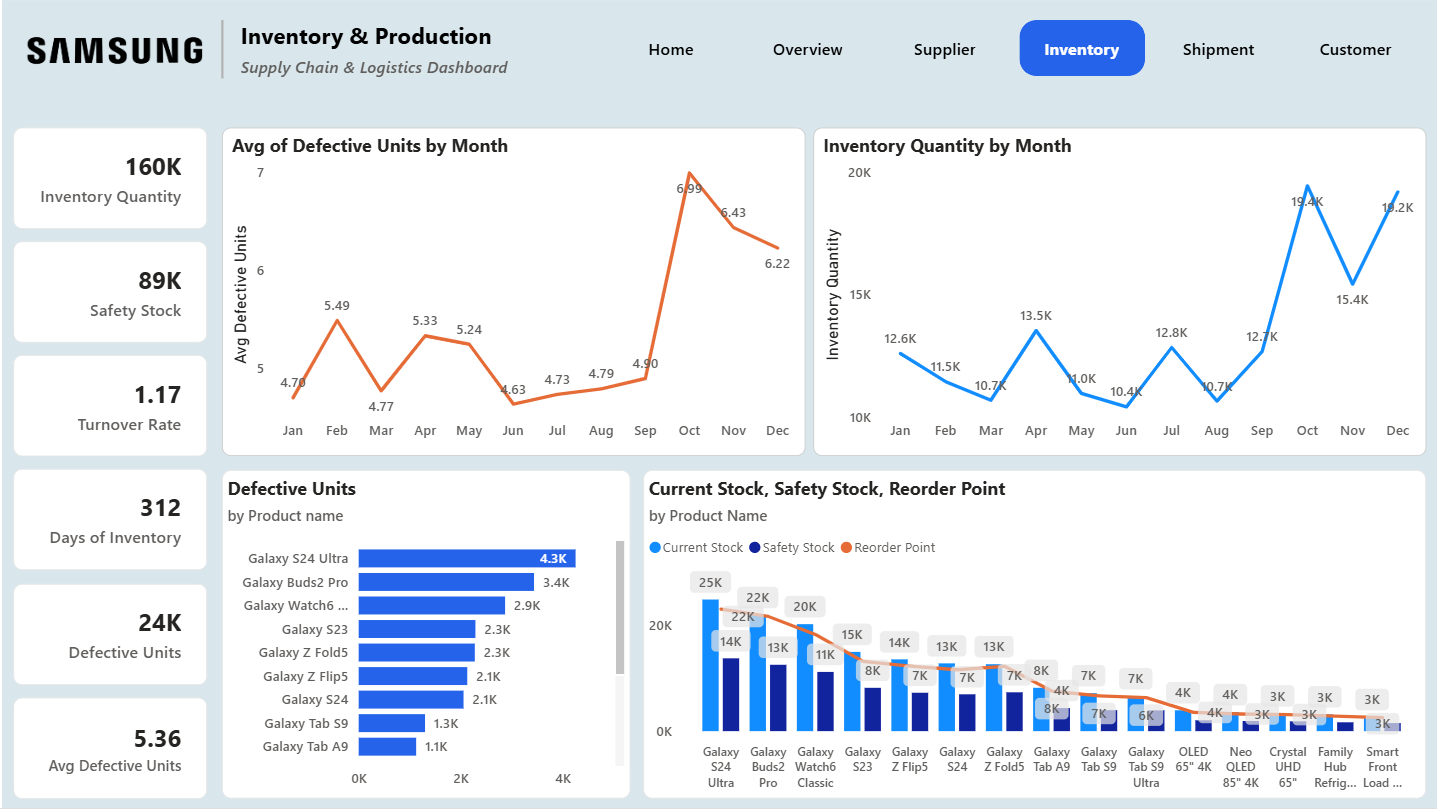

Layout of this report page (visuals, bound fields, positions):
{"tool":"powerbi","page":{"name":"Inventory","canvas":[1280,720],"ordinal":3},"visuals":[{"type":"shape","title":"Inventory & Production","box":[212.5,17.5,240,52.5],"z":0},{"type":"shape","box":[182.1,17.9,27.4,52.4],"z":1000},{"type":"image","box":[9.5,17.9,173.8,53.6],"z":2000},{"type":"cardVisual","fields":{"Data":["_Measures.Safety Stock"]},"box":[10,215.2,172.5,90],"z":3000},{"type":"cardVisual","fields":{"Data":["_Measures.Turnover Rate"]},"box":[10,316.8,172.5,90],"z":4000},{"type":"cardVisual","fields":{"Data":["_Measures.Days of Inventory"]},"box":[10,418.2,172.5,90],"z":5000},{"type":"cardVisual","fields":{"Data":["Sum(fact_production.defective_units)"]},"box":[10,519.8,172.5,90],"z":6000},{"type":"cardVisual","fields":{"Data":["Avg(fact_production.defective_units)"]},"box":[10,621.2,172.5,90],"z":7000},{"type":"cardVisual","fields":{"Data":["_Measures.Inventory Quantity"]},"box":[10,113.8,172.5,90],"z":8000},{"type":"clusteredBarChart","title":"Defective Units","fields":{"Category":["dim_product.product_name"],"Y":["Sum(fact_production.defective_units)"]},"box":[196.2,418.8,363.8,292.5],"z":9000},{"type":"lineClusteredColumnComboChart","title":"Current Stock, Safety Stock, Reorder Point","fields":{"Category":["dim_product.product_name"],"Y":["_Measures.Inventory Quantity","_Measures.Safety Stock"],"Y2":["_Measures.Reorder Point"]},"box":[571.2,418.8,697.5,292.5],"z":10000},{"type":"lineChart","title":"Avg of Defective Units by Month","fields":{"Category":["dim_date.Month_Short"],"Y":["Avg(fact_production.defective_units)"]},"box":[196.2,113.8,520,292.5],"z":11000},{"type":"lineChart","title":"Inventory Quantity by Month","fields":{"Category":["dim_date.Month_Short"],"Y":["_Measures.Inventory Quantity"]},"box":[722.5,113.8,546.2,292.5],"z":12000},{"type":"pageNavigator","box":[540,17.5,723.8,50],"z":12001}]}

Visuals, with their boxes in screenshot pixels (x1, y1, x2, y2), scaled from the page's 1280x720 canvas onto the 1437x809 screenshot:
"Inventory & Production" shape: BBox(239, 20, 508, 79)
shape: BBox(204, 20, 235, 79)
image: BBox(11, 20, 206, 80)
cardVisual - _Measures.Safety Stock: BBox(11, 242, 205, 343)
cardVisual - _Measures.Turnover Rate: BBox(11, 356, 205, 457)
cardVisual - _Measures.Days of Inventory: BBox(11, 470, 205, 571)
cardVisual - Sum(fact_production.defective_units): BBox(11, 584, 205, 685)
cardVisual - Avg(fact_production.defective_units): BBox(11, 698, 205, 799)
cardVisual - _Measures.Inventory Quantity: BBox(11, 128, 205, 229)
"Defective Units" clusteredBarChart: BBox(220, 471, 629, 799)
"Current Stock, Safety Stock, Reorder Point" lineClusteredColumnComboChart: BBox(641, 471, 1424, 799)
"Avg of Defective Units by Month" lineChart: BBox(220, 128, 804, 457)
"Inventory Quantity by Month" lineChart: BBox(811, 128, 1424, 457)
pageNavigator: BBox(606, 20, 1419, 76)
